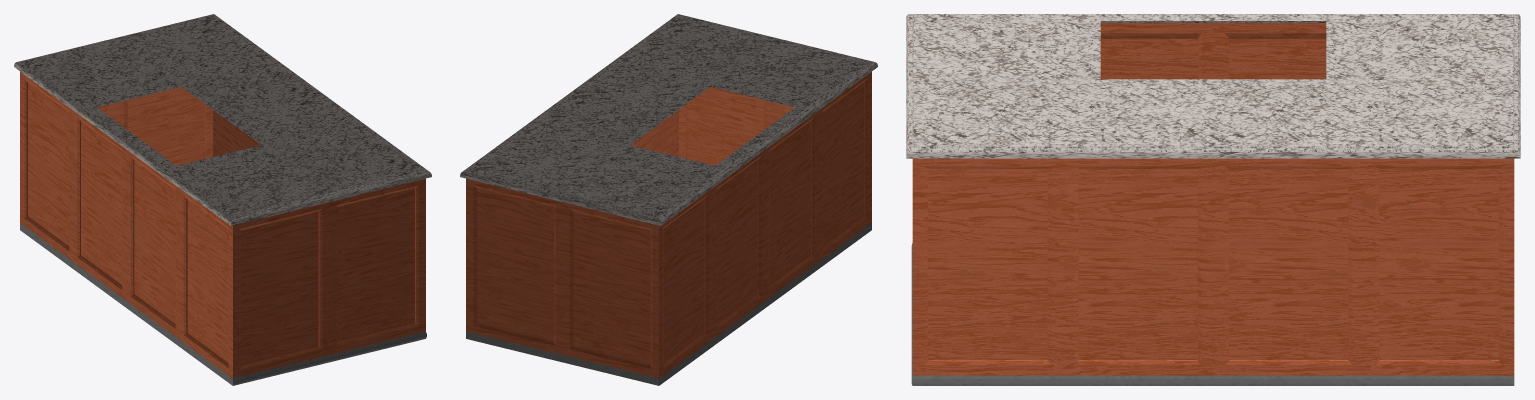
The model's file is StandardIslandHeight2_cd082fab.obj.
3 renders of one model, left to right at view 1: azimuth 30°, elevation 25°; view 2: azimuth 150°, elevation 25°; view 3: azimuth 270°, elevation 25°, orthographic. The views are drawn at different scales.
Visible parts, largest first — view 1: StandardIslandHeight2_cd082fab; view 2: StandardIslandHeight2_cd082fab; view 3: StandardIslandHeight2_cd082fab.
Boxes of the visible parts, <box> form: StandardIslandHeight2_cd082fab: <box>14,14,431,385</box>; StandardIslandHeight2_cd082fab: <box>460,14,877,385</box>; StandardIslandHeight2_cd082fab: <box>906,14,1520,385</box>.
Bounding box in the file's own units: 1.14 × 0.9196 × 2.14.
